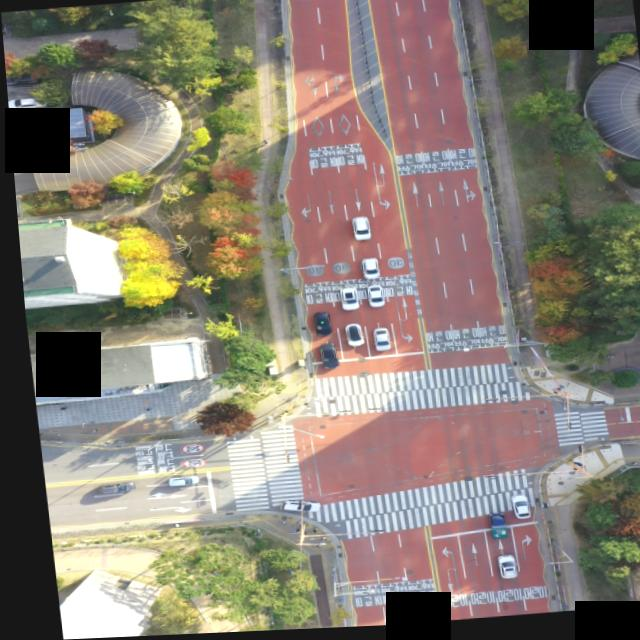car: (310, 347, 333, 370), (501, 496, 521, 522), (348, 219, 368, 244), (365, 331, 385, 355), (272, 503, 311, 515), (488, 559, 508, 582), (88, 483, 126, 495), (334, 291, 354, 313), (356, 260, 375, 283), (339, 327, 358, 350), (361, 288, 380, 310), (6, 97, 36, 109), (307, 313, 324, 333), (158, 478, 189, 488), (173, 446, 193, 455)
small_truck: (478, 515, 499, 544)
